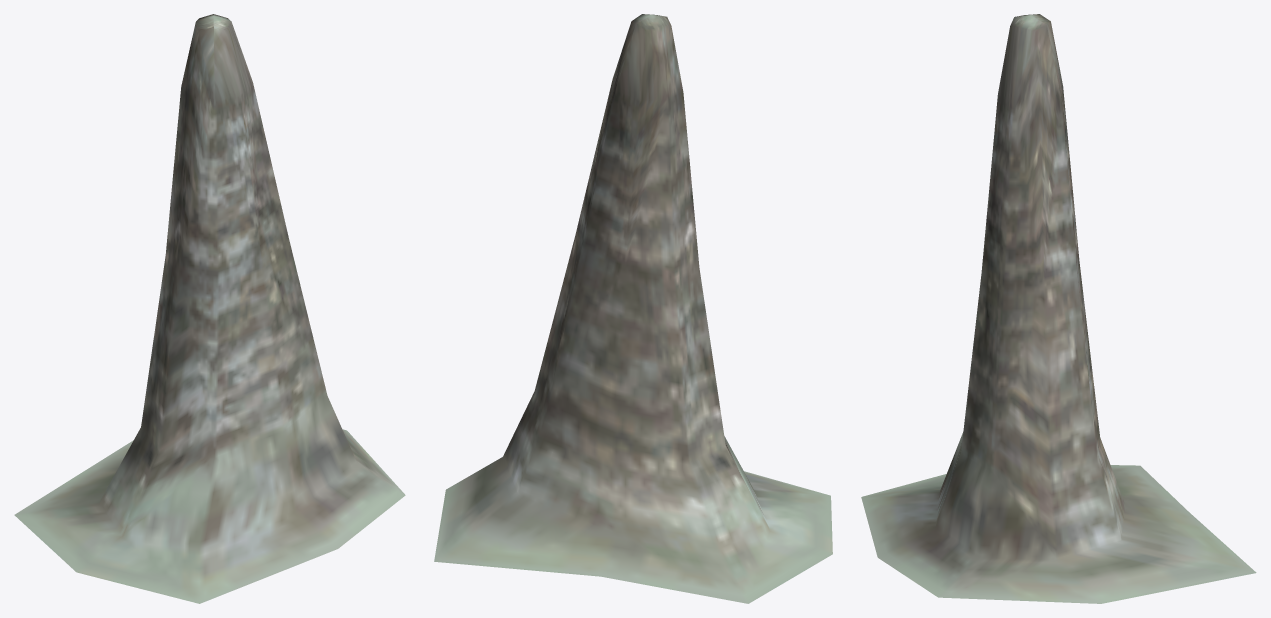
File: TROLLHOLE02_PS-MAINSTALAG59.fbx
3 views of the same model, side by side, from view 1: azimuth 30°, elevation 25°; view 2: azimuth 150°, elevation 25°; view 3: azimuth 270°, elevation 25° (orthographic). The views are drawn at different scales.
Parts seen in each view (by area): view 1: TROLLHOLE02_PS-MAINSTALAG59; view 2: TROLLHOLE02_PS-MAINSTALAG59; view 3: TROLLHOLE02_PS-MAINSTALAG59.
Boxes of the visible parts, <box> form: TROLLHOLE02_PS-MAINSTALAG59: <box>14,14,405,603</box>; TROLLHOLE02_PS-MAINSTALAG59: <box>434,14,832,603</box>; TROLLHOLE02_PS-MAINSTALAG59: <box>861,14,1256,603</box>.
Bounding box in the file's own units: 26163 × 38962 × 26348.
Materials: 1 (1 with a texture image).
